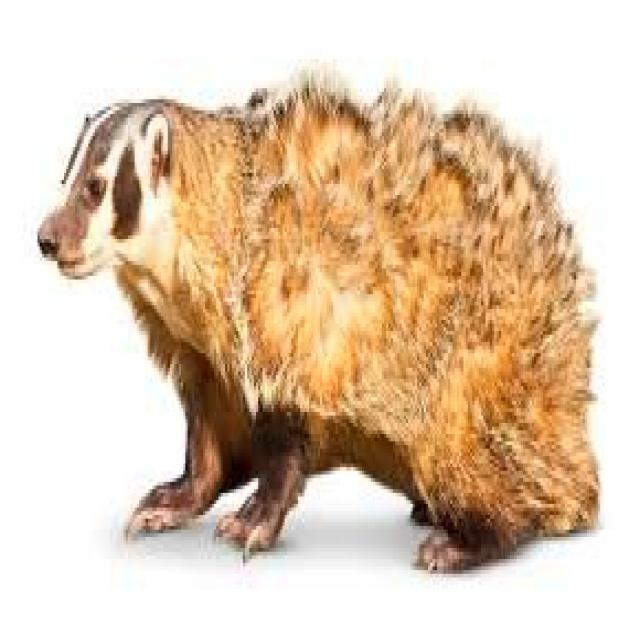badger: (42, 77, 600, 570)
